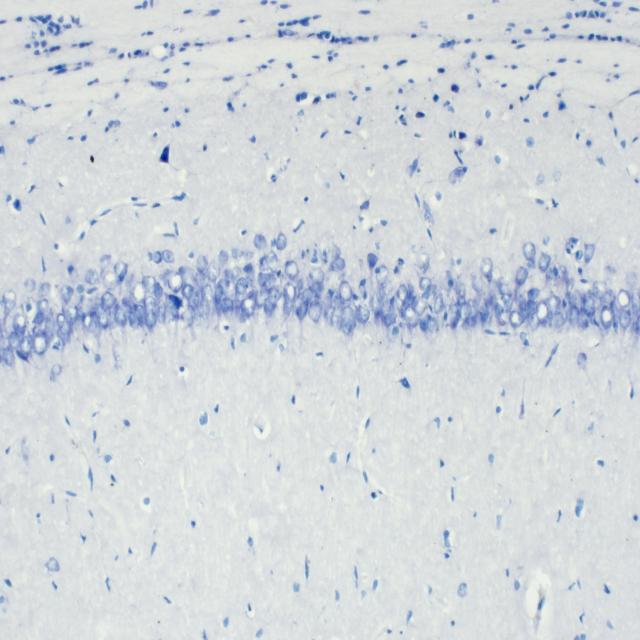neuron: (82, 311, 102, 340), (331, 291, 343, 330), (342, 304, 357, 332), (258, 271, 276, 292), (45, 308, 56, 342), (77, 296, 94, 318), (416, 245, 430, 271), (103, 270, 121, 290), (32, 334, 48, 356), (240, 296, 256, 318), (305, 276, 321, 298), (519, 300, 535, 322), (598, 289, 613, 312), (264, 250, 278, 274), (535, 300, 549, 324), (13, 312, 28, 334), (403, 305, 418, 327), (582, 295, 597, 317), (114, 305, 128, 328), (308, 300, 322, 323), (133, 303, 148, 324), (413, 295, 428, 316), (56, 313, 69, 337), (96, 303, 108, 329), (480, 258, 493, 282), (600, 305, 613, 329), (114, 260, 128, 282), (132, 281, 146, 303), (181, 305, 195, 327), (255, 287, 269, 309), (356, 303, 370, 325), (168, 272, 183, 292), (3, 290, 17, 311), (60, 284, 74, 305), (338, 280, 352, 301), (308, 267, 325, 284), (508, 310, 524, 328), (220, 297, 233, 319), (538, 251, 551, 273), (142, 274, 156, 294), (206, 261, 220, 281), (285, 260, 299, 280), (340, 317, 354, 337), (515, 266, 529, 286), (571, 290, 583, 313), (191, 305, 202, 330), (448, 304, 459, 329), (3, 347, 16, 368), (296, 299, 309, 320), (592, 280, 607, 298), (376, 266, 390, 285), (458, 302, 472, 321), (57, 326, 70, 346), (66, 304, 79, 324), (144, 310, 157, 330), (466, 298, 479, 318), (479, 302, 489, 328), (551, 313, 564, 333), (178, 266, 194, 282), (495, 280, 511, 296), (569, 305, 580, 328), (2, 314, 14, 335), (201, 284, 214, 303), (527, 312, 540, 331), (523, 242, 536, 261), (371, 292, 382, 314), (21, 336, 33, 356), (284, 282, 296, 302), (434, 294, 446, 314), (618, 289, 630, 308), (631, 291, 640, 316), (102, 292, 116, 308), (254, 234, 268, 250), (418, 276, 432, 292), (461, 316, 477, 330), (8, 332, 21, 349), (268, 287, 281, 304), (584, 244, 595, 264), (182, 284, 194, 302), (196, 255, 208, 273), (396, 284, 408, 302), (426, 316, 438, 334), (619, 310, 631, 328), (85, 269, 99, 284), (330, 257, 345, 271), (194, 272, 207, 288), (128, 312, 140, 329), (548, 295, 560, 312), (200, 300, 210, 320), (277, 232, 287, 252), (222, 268, 231, 290), (455, 280, 466, 298), (37, 298, 49, 314), (24, 277, 36, 293), (39, 282, 51, 298), (235, 277, 247, 293), (302, 288, 314, 304), (384, 312, 396, 328), (501, 290, 513, 306), (528, 287, 540, 303), (235, 290, 244, 311), (162, 250, 175, 264), (243, 263, 256, 277), (153, 282, 163, 300), (382, 299, 392, 317), (283, 300, 293, 317), (144, 296, 156, 310), (156, 308, 166, 324), (218, 250, 228, 266), (420, 314, 430, 330), (231, 266, 242, 280), (51, 364, 63, 376), (32, 312, 44, 324), (157, 300, 167, 314), (264, 302, 274, 316), (38, 318, 47, 333), (216, 284, 223, 303), (153, 250, 162, 264), (456, 296, 466, 306), (431, 284, 438, 298), (232, 247, 240, 258), (76, 284, 85, 293), (575, 250, 583, 260)
